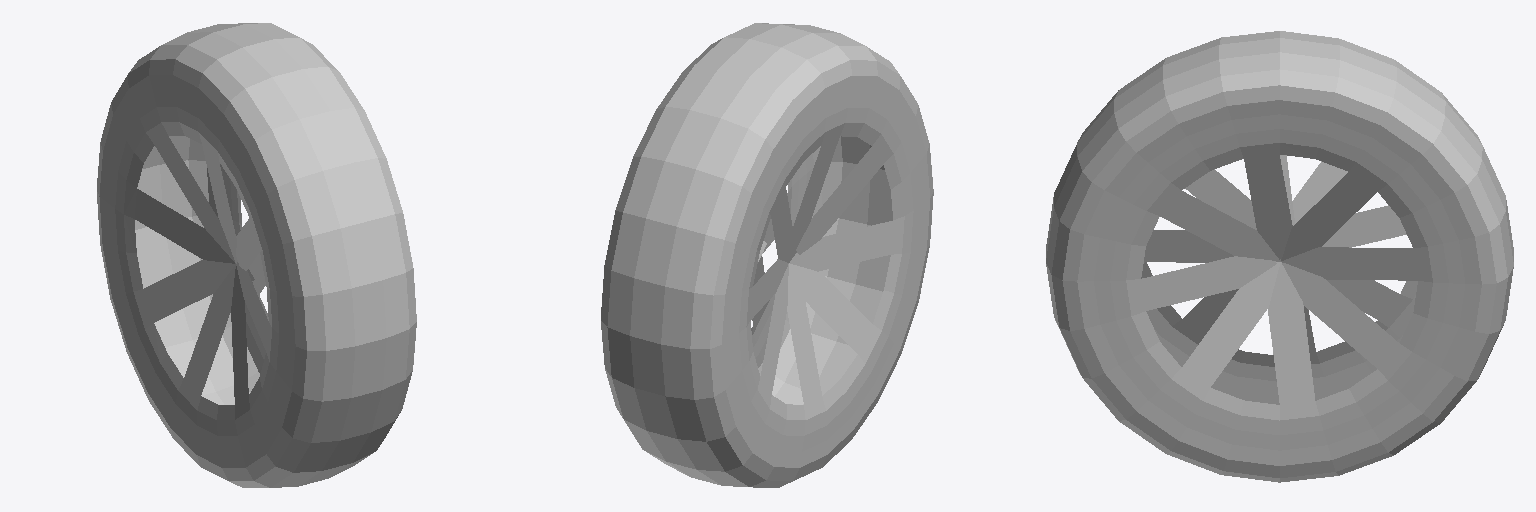
The model's file is TheTire.obj.
The picture shows the model from 3 angles: view 1: azimuth 30°, elevation 25°; view 2: azimuth 150°, elevation 25°; view 3: azimuth 270°, elevation 25°; orthographic projection.
Parts seen in each view (by area): view 1: loftedSurface1; view 2: loftedSurface1; view 3: loftedSurface1.
Part boxes in pixels (left/top/right/bottom): loftedSurface1: left=97, top=23, right=416, bottom=487; loftedSurface1: left=601, top=23, right=933, bottom=487; loftedSurface1: left=1046, top=31, right=1513, bottom=482.
Bounding box in the file's own units: 1.86 × 6.16 × 6.15.